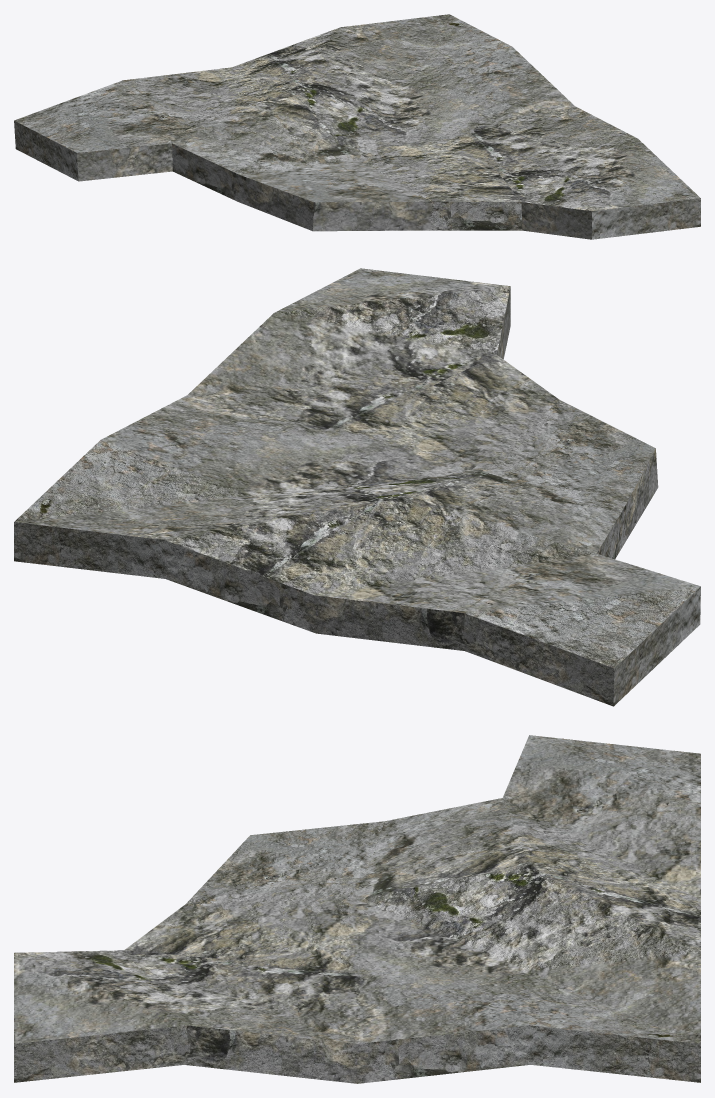
File: UWHoleBorder.fbx
The picture shows the model from 3 angles, top to bottom: view 1: azimuth 30°, elevation 25°; view 2: azimuth 150°, elevation 25°; view 3: azimuth 270°, elevation 25°; orthographic projection. The views are drawn at different scales.
Parts seen in each view (by area): view 1: UWHoleBorder; view 2: UWHoleBorder; view 3: UWHoleBorder.
Boxes of the visible parts, left/top/right/bottom form: UWHoleBorder: left=14, top=14, right=700, bottom=239; UWHoleBorder: left=14, top=268, right=700, bottom=706; UWHoleBorder: left=14, top=735, right=700, bottom=1083.
Bounding box in the file's own units: 803 × 92.35 × 800.
